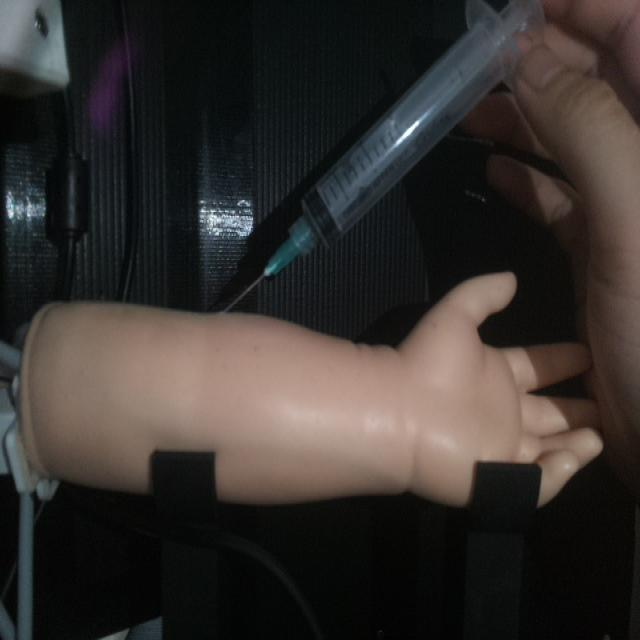Above 30 degrees: (216, 0, 548, 313)
